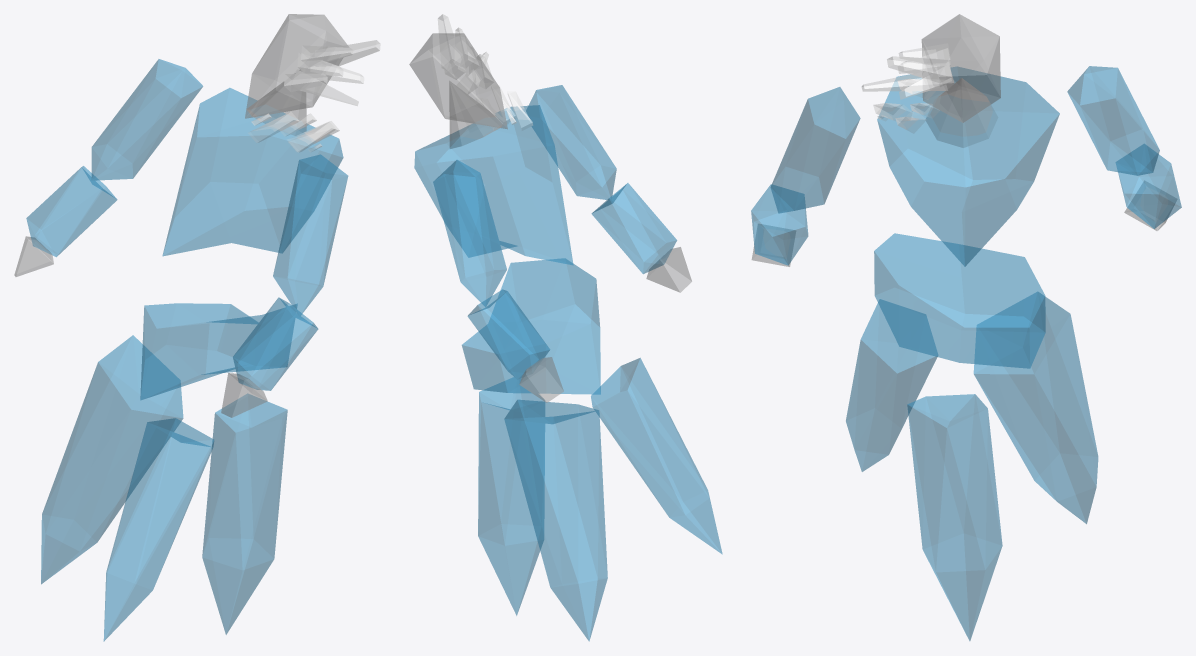
File: ghostChargingLunge9.obj
3 renders of one model, left to right at view 1: azimuth 30°, elevation 25°; view 2: azimuth 150°, elevation 25°; view 3: azimuth 270°, elevation 25°, orthographic. The views are drawn at different scales.
Parts seen in each view (by area): view 1: Cube.001_Cube.006, Icosphere.017, Icosphere.016, Icosphere.015, Cube_Cube.006, Icosphere.005_Icosphere.005, Icosphere.007_Icosphere.005, Icosphere.003_Icosphere.006, Icosphere.006_Icosphere.005, Icosphere.008_Icosphere.005, Cone_Cone.006, Cube.002_Cube.006 (+8 smaller); view 2: Cube.001_Cube.006, Icosphere.017, Cube_Cube.006, Icosphere.016, Icosphere.015, Icosphere.007_Icosphere.005, Icosphere.003_Icosphere.006, Icosphere.005_Icosphere.005, Icosphere.006_Icosphere.005, Icosphere.008_Icosphere.005, Cone_Cone.006, Cube.002_Cube.006 (+4 smaller); view 3: Cube.001_Cube.006, Cube_Cube.006, Icosphere.017, Icosphere.016, Icosphere.015, Icosphere.005_Icosphere.005, Icosphere.003_Icosphere.006, Icosphere.007_Icosphere.005, Icosphere.008_Icosphere.005, Icosphere.006_Icosphere.005, Cone_Cone.006, Cube.003_Cube.006 (+4 smaller).
Part boxes in pixels (bbox=[...]): Cube.001_Cube.006: bbox=[162, 88, 343, 256]; Icosphere.017: bbox=[41, 335, 183, 584]; Icosphere.016: bbox=[202, 394, 287, 634]; Icosphere.015: bbox=[103, 418, 214, 641]; Cube_Cube.006: bbox=[140, 303, 297, 400]; Icosphere.005_Icosphere.005: bbox=[273, 154, 348, 316]; Icosphere.007_Icosphere.005: bbox=[91, 59, 202, 180]; Icosphere.003_Icosphere.006: bbox=[245, 14, 348, 118]; Icosphere.006_Icosphere.005: bbox=[233, 297, 318, 390]; Icosphere.008_Icosphere.005: bbox=[26, 166, 117, 256]; Cone_Cone.006: bbox=[247, 69, 306, 135]; Cube.002_Cube.006: bbox=[221, 373, 267, 417]; Cube.001_Cube.006: bbox=[414, 105, 573, 265]; Icosphere.017: bbox=[504, 399, 607, 641]; Cube_Cube.006: bbox=[462, 258, 600, 394]; Icosphere.016: bbox=[478, 377, 544, 615]; Icosphere.015: bbox=[591, 358, 722, 554]; Icosphere.007_Icosphere.005: bbox=[433, 160, 506, 306]; Icosphere.003_Icosphere.006: bbox=[409, 33, 507, 129]; Icosphere.005_Icosphere.005: bbox=[526, 85, 616, 199]; Icosphere.006_Icosphere.005: bbox=[591, 183, 676, 273]; Icosphere.008_Icosphere.005: bbox=[467, 289, 549, 379]; Cone_Cone.006: bbox=[449, 81, 501, 148]; Cube.002_Cube.006: bbox=[646, 247, 691, 292]; Cube.001_Cube.006: bbox=[877, 67, 1059, 266]; Cube_Cube.006: bbox=[874, 233, 1045, 368]; Icosphere.017: bbox=[973, 292, 1098, 523]; Icosphere.016: bbox=[907, 394, 1002, 640]; Icosphere.015: bbox=[846, 299, 937, 471]; Icosphere.005_Icosphere.005: bbox=[770, 87, 860, 213]; Icosphere.003_Icosphere.006: bbox=[921, 14, 1000, 122]; Icosphere.007_Icosphere.005: bbox=[1067, 66, 1159, 175]; Icosphere.008_Icosphere.005: bbox=[1116, 144, 1181, 228]; Icosphere.006_Icosphere.005: bbox=[751, 184, 808, 265]; Cone_Cone.006: bbox=[925, 78, 997, 147]; Cube.003_Cube.006: bbox=[1124, 181, 1176, 230].
Size of the model in its own units: 24.44 by 48.38 by 28.66.
